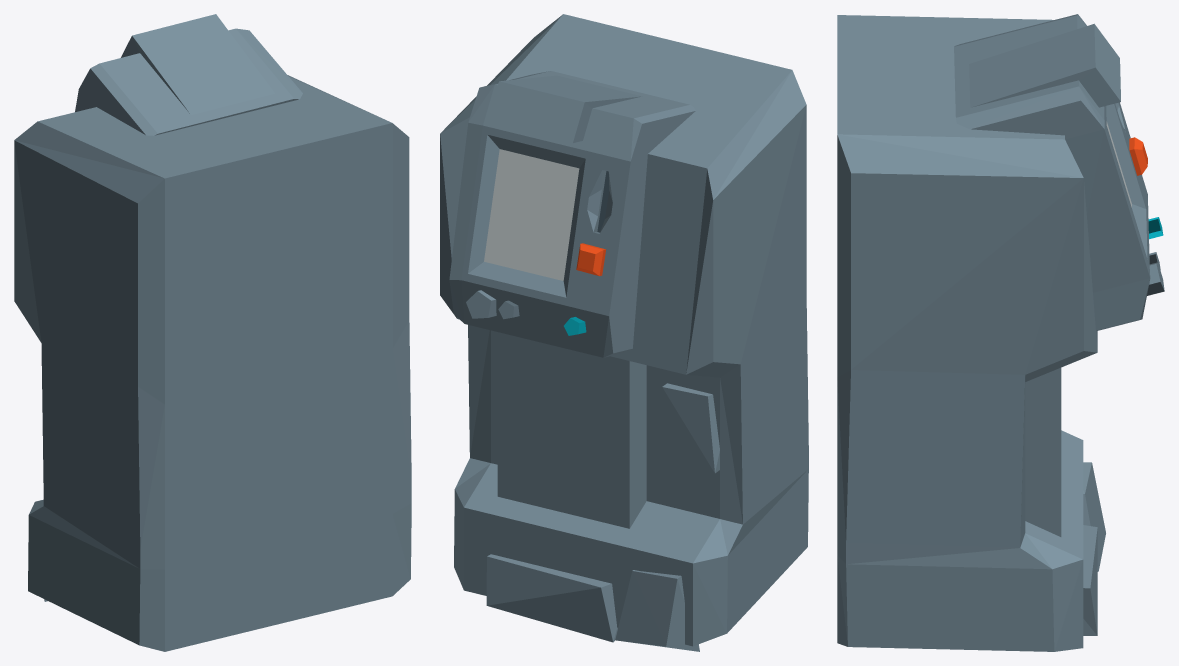
File: kiosk.glb
3 renders of one model, left to right at view 1: azimuth 30°, elevation 25°; view 2: azimuth 150°, elevation 25°; view 3: azimuth 270°, elevation 25°, orthographic. The views are drawn at different scales.
Parts seen in each view (by area): view 1: kiosk; view 2: kiosk; view 3: kiosk.
Part boxes in pixels (x1,y1,x2,y2): kiosk: (14,14,411,651); kiosk: (440,14,808,651); kiosk: (837,14,1164,651).
Bounding box in the file's own units: 0.7144 × 1.27 × 0.6567.
